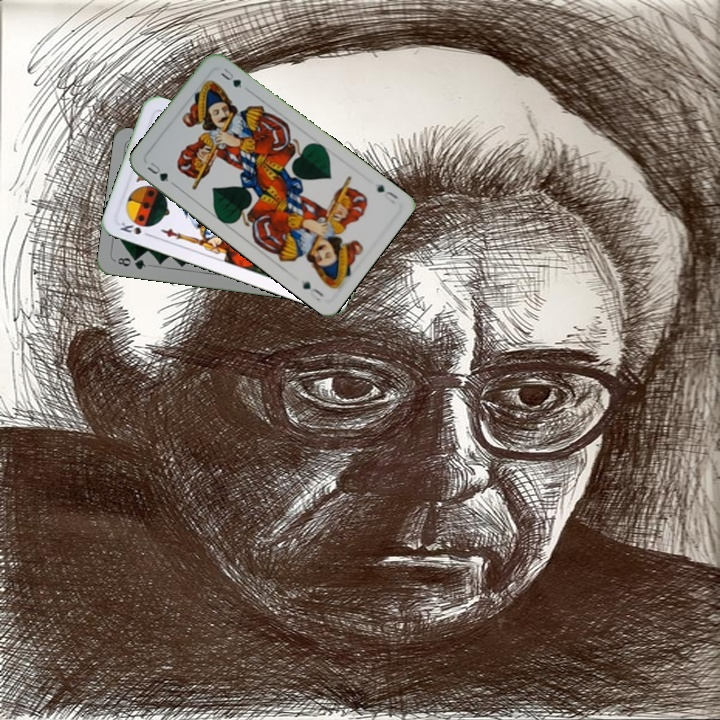G8: (113, 253, 148, 272)
GU: (143, 158, 171, 184), (373, 180, 401, 206)
SK: (116, 218, 154, 240)
